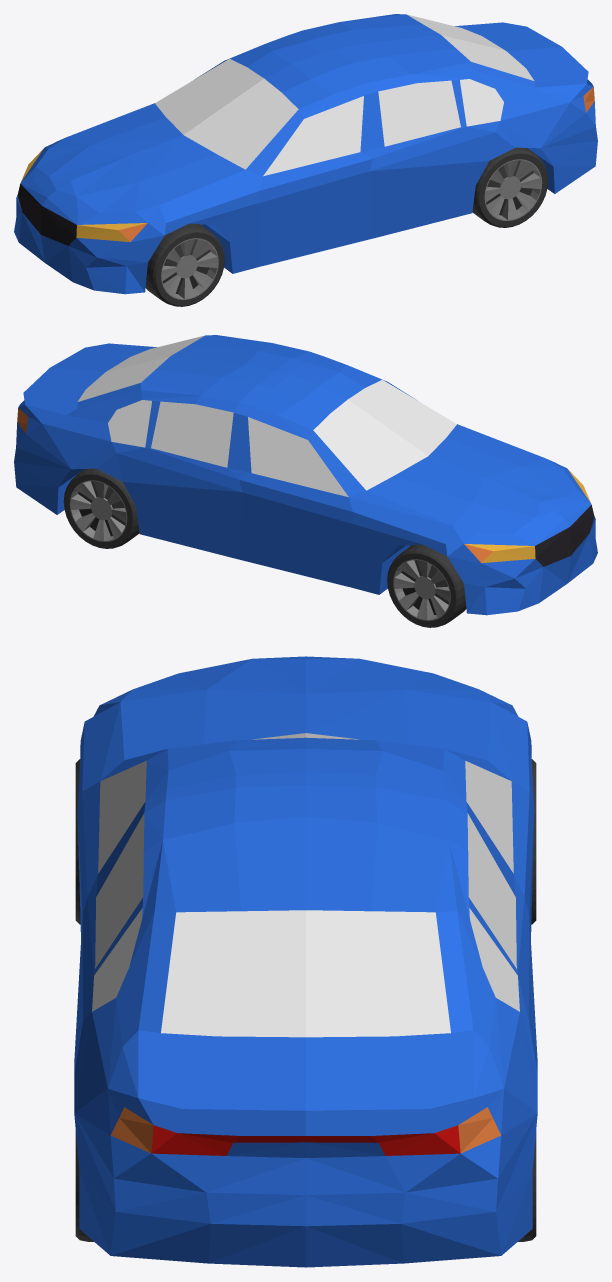
File: bmw_7_1_4.fbx
The picture shows the model from 3 angles, top to bottom: view 1: azimuth 30°, elevation 25°; view 2: azimuth 150°, elevation 25°; view 3: azimuth 270°, elevation 25°; orthographic projection. The views are drawn at different scales.
Parts seen in each view (by area): view 1: Car, Wheel Front Left, Wheel Rear Left; view 2: Car, Wheel Front Right, Wheel Rear Right; view 3: Car.
Boxes of the visible parts, bbox=[...] form: Car: bbox=[14, 14, 597, 294]; Wheel Front Left: bbox=[145, 223, 224, 306]; Wheel Rear Left: bbox=[472, 147, 548, 227]; Car: bbox=[14, 335, 597, 615]; Wheel Front Right: bbox=[387, 544, 466, 627]; Wheel Rear Right: bbox=[63, 468, 139, 548]; Car: bbox=[74, 656, 537, 1267].
Bounding box in the file's own units: 181 × 143 × 473.
